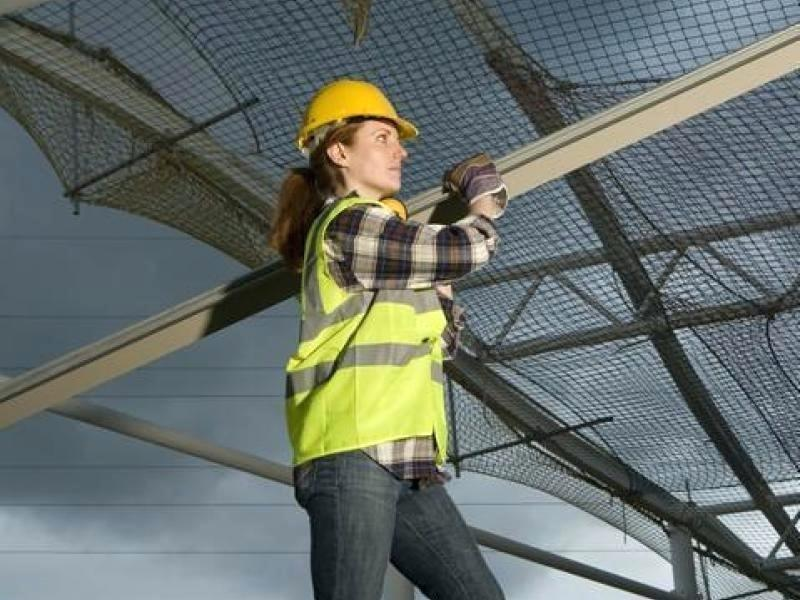helmet: (296, 78, 423, 151), (457, 157, 507, 200)
